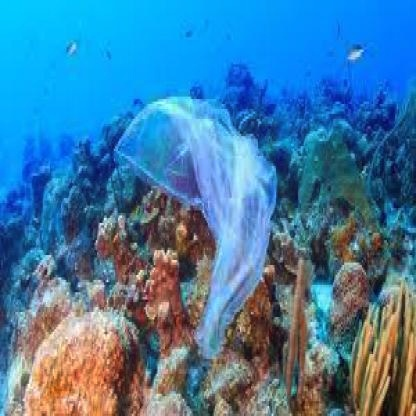pbag: (111, 94, 277, 362)
